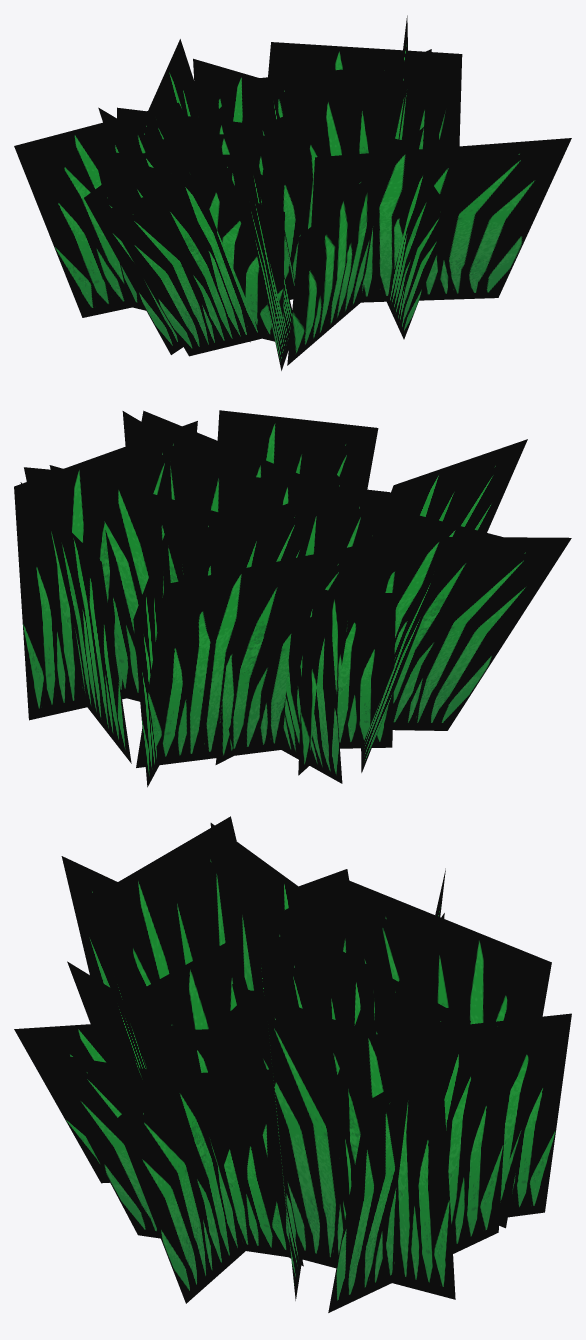
The model's file is thickGrass.fbx.
3 views of the same model, one above another, from view 1: azimuth 30°, elevation 25°; view 2: azimuth 150°, elevation 25°; view 3: azimuth 270°, elevation 25° (orthographic). The views are drawn at different scales.
Parts seen in each view (by area): view 1: PT_Grass_02_LOD0; view 2: PT_Grass_02_LOD0; view 3: PT_Grass_02_LOD0.
Boxes of the visible parts, x1=… form: PT_Grass_02_LOD0: x1=14, y1=15, x2=571, y2=370; PT_Grass_02_LOD0: x1=14, y1=410, x2=571, y2=787; PT_Grass_02_LOD0: x1=14, y1=816, x2=571, y2=1312.
Size of what is drawn, in the model's own units: 124 by 68.42 by 99.38.
